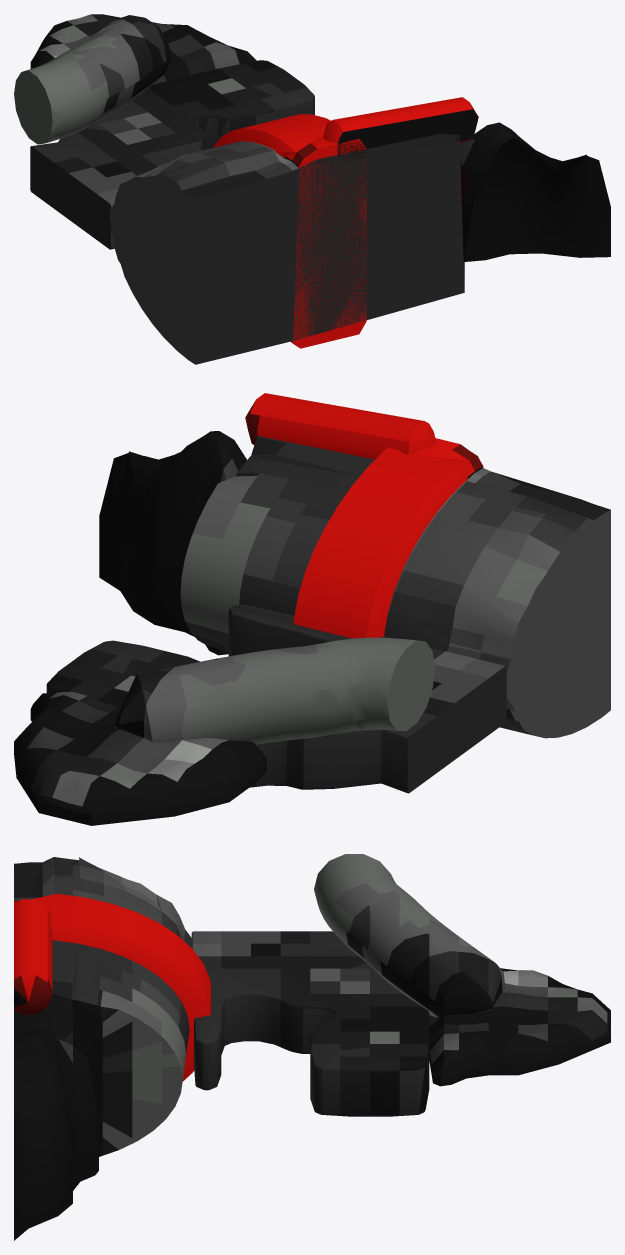
Rendered from station_l_tr_damaged.glb.
3 renders of one model, top to bottom at view 1: azimuth 30°, elevation 25°; view 2: azimuth 150°, elevation 25°; view 3: azimuth 270°, elevation 25°, orthographic. The views are drawn at different scales.
Visible parts, largest first — view 1: station_l_tr_damaged_axle, station_l_tr_damaged_web0, station_l_tr_damaged_dock_stub, station_l_tr_damaged_strut, station_l_tr_damaged_red_clamp, station_l_tr_damaged_red_rod, station_l_tr_damaged_shard_diag; view 2: station_l_tr_damaged_axle, station_l_tr_damaged_strut, station_l_tr_damaged_web0, station_l_tr_damaged_shard_diag, station_l_tr_damaged_red_clamp, station_l_tr_damaged_dock_stub, station_l_tr_damaged_red_rod; view 3: station_l_tr_damaged_web0, station_l_tr_damaged_axle, station_l_tr_damaged_strut, station_l_tr_damaged_dock_stub, station_l_tr_damaged_shard_diag, station_l_tr_damaged_red_clamp, station_l_tr_damaged_red_rod.
Boxes of the visible parts, bbox=[...] form: station_l_tr_damaged_axle: bbox=[109, 133, 464, 364]; station_l_tr_damaged_web0: bbox=[30, 60, 314, 249]; station_l_tr_damaged_dock_stub: bbox=[459, 122, 610, 286]; station_l_tr_damaged_strut: bbox=[14, 15, 170, 144]; station_l_tr_damaged_red_clamp: bbox=[214, 114, 366, 348]; station_l_tr_damaged_red_rod: bbox=[323, 97, 478, 160]; station_l_tr_damaged_shard_diag: bbox=[30, 14, 256, 84]; station_l_tr_damaged_axle: bbox=[180, 436, 610, 738]; station_l_tr_damaged_strut: bbox=[113, 637, 434, 744]; station_l_tr_damaged_web0: bbox=[46, 604, 506, 793]; station_l_tr_damaged_shard_diag: bbox=[14, 692, 266, 825]; station_l_tr_damaged_red_clamp: bbox=[293, 438, 483, 638]; station_l_tr_damaged_dock_stub: bbox=[99, 431, 246, 655]; station_l_tr_damaged_red_rod: bbox=[245, 393, 436, 459]; station_l_tr_damaged_web0: bbox=[191, 931, 429, 1116]; station_l_tr_damaged_axle: bbox=[14, 857, 191, 1156]; station_l_tr_damaged_strut: bbox=[314, 854, 505, 1017]; station_l_tr_damaged_dock_stub: bbox=[14, 1029, 98, 1240]; station_l_tr_damaged_shard_diag: bbox=[429, 968, 610, 1086]; station_l_tr_damaged_red_clamp: bbox=[14, 893, 210, 1081]; station_l_tr_damaged_red_rod: bbox=[14, 899, 52, 1014].
Bounding box in the file's own units: 16.97 × 8.25 × 20.11.
